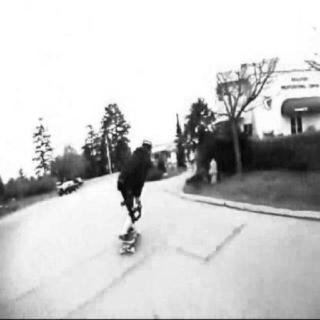other: (113, 217, 140, 261), (199, 153, 223, 191), (52, 175, 86, 199)
